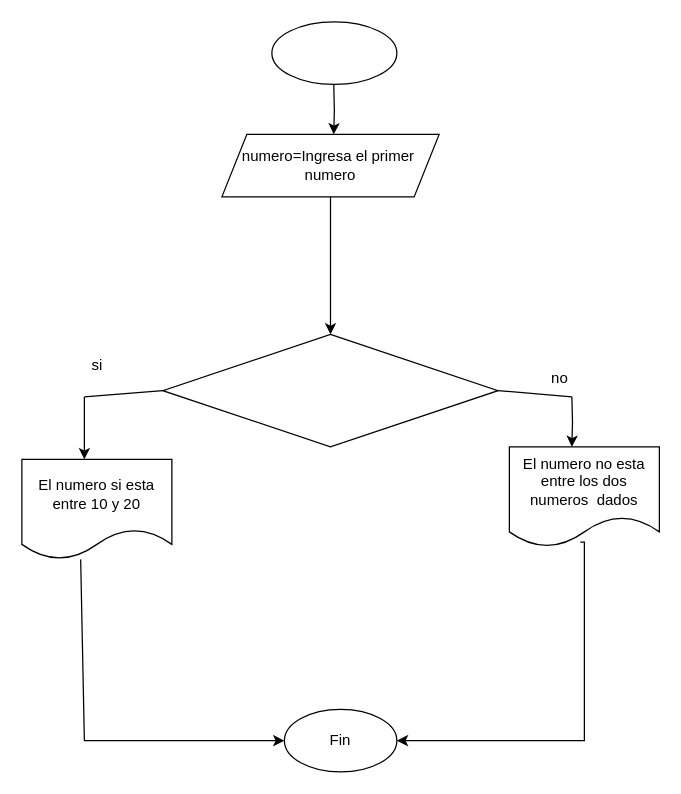
The diagram is 681 pixels wide and 794 high, and some of its shapes have lost their labels. Here are the shapes that lost their labels. From the top down, the box of each, then its label:
(271, 21, 397, 84): INICIO
(162, 333, 498, 447): numero >=10 and numero <=20:
